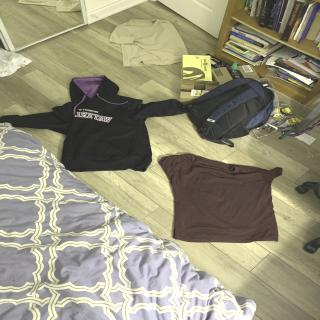Maroon T-Shirt: (160, 150, 289, 244)
Waterloo Hoodie: (33, 77, 156, 173)
Yellow T-Shirt: (106, 15, 190, 72)
